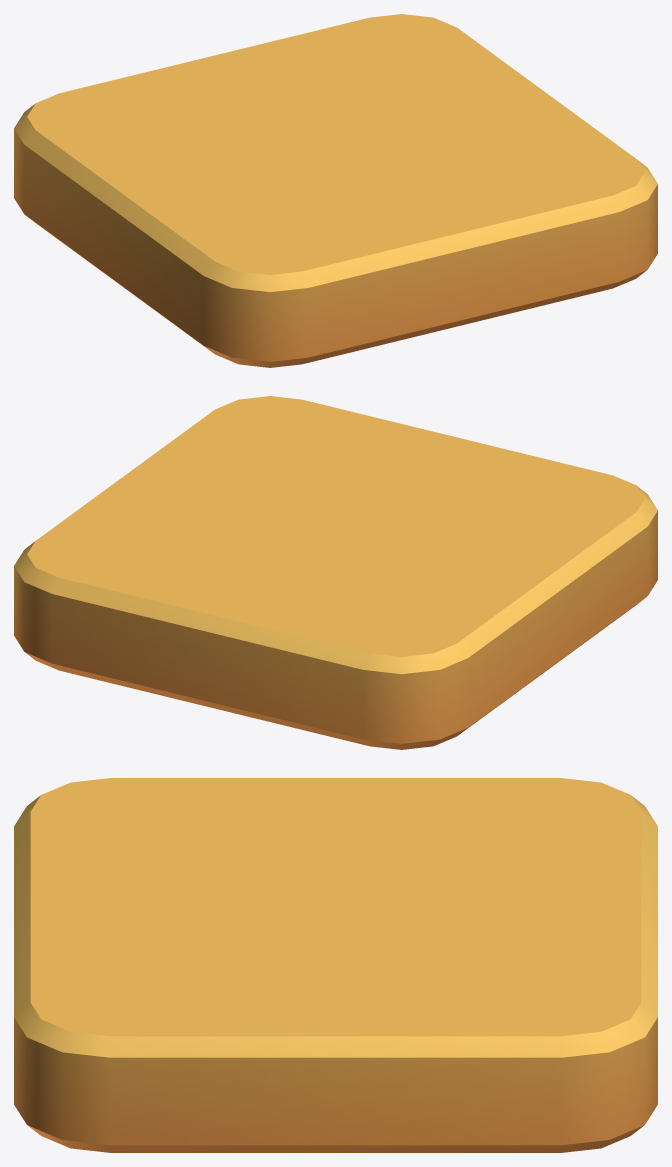
Rendered from tile_yellow.obj.
3 renders of one model, top to bottom at view 1: azimuth 30°, elevation 25°; view 2: azimuth 150°, elevation 25°; view 3: azimuth 270°, elevation 25°, orthographic. The views are drawn at different scales.
Parts seen in each view (by area): view 1: tile_yellow; view 2: tile_yellow; view 3: tile_yellow.
Boxes of the visible parts, x1,y1,x2,y2 form: tile_yellow: [14, 14, 657, 367]; tile_yellow: [14, 396, 657, 749]; tile_yellow: [14, 778, 657, 1152].
Size of the model in its own units: 1 by 0.2 by 1.
Materials: 1 (1 with a texture image).
